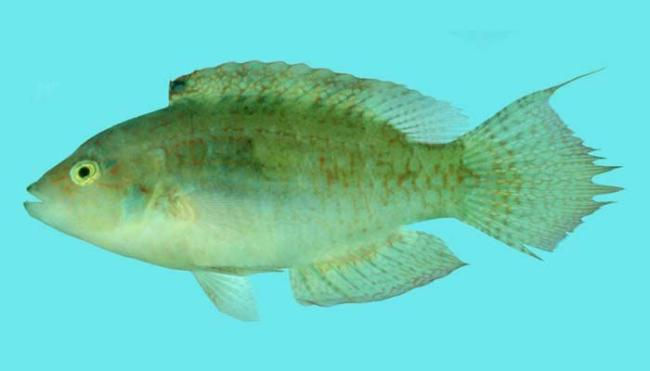fish: (22, 59, 626, 321)
